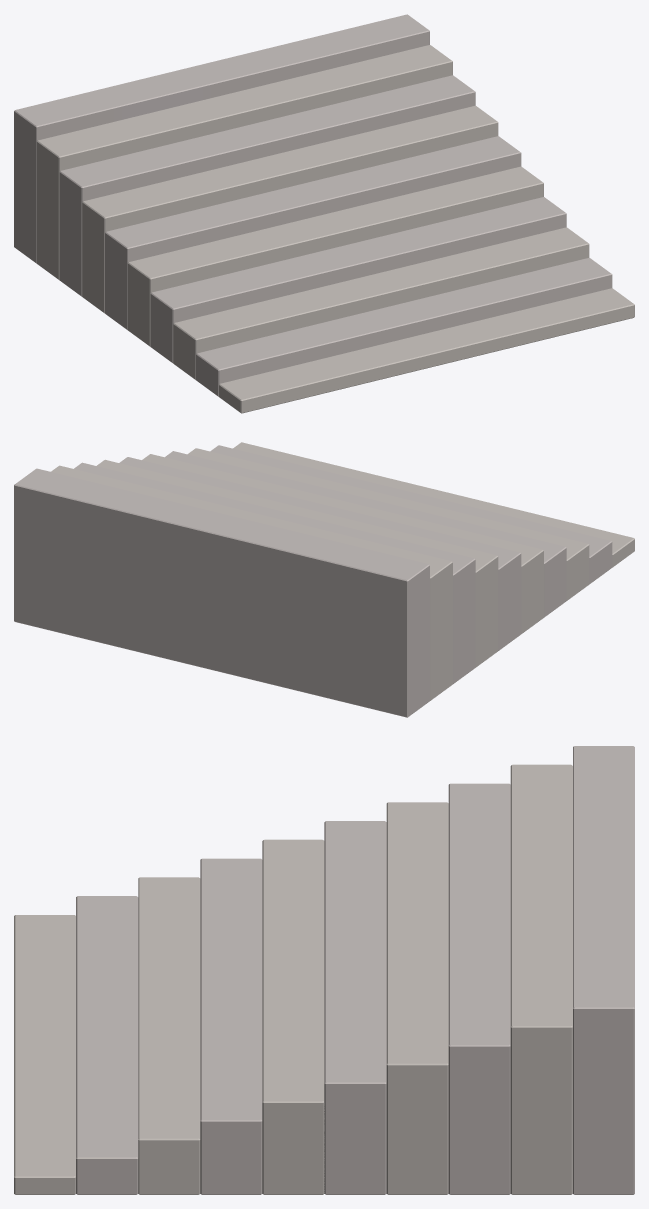
File: mobile.glb
The picture shows the model from 3 angles, top to bottom: view 1: azimuth 30°, elevation 25°; view 2: azimuth 150°, elevation 25°; view 3: azimuth 270°, elevation 25°; orthographic projection. The views are drawn at different scales.
Size of the model in its own units: 3 by 1 by 3.
Materials: 1 (1 with a texture image).
